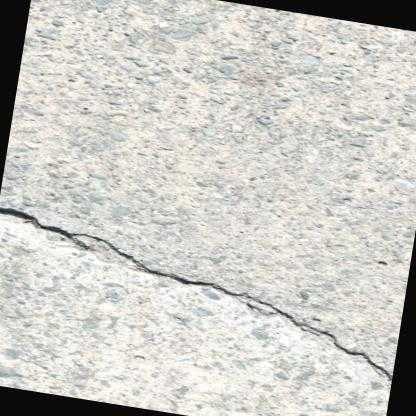crack: (0, 207, 392, 379)
